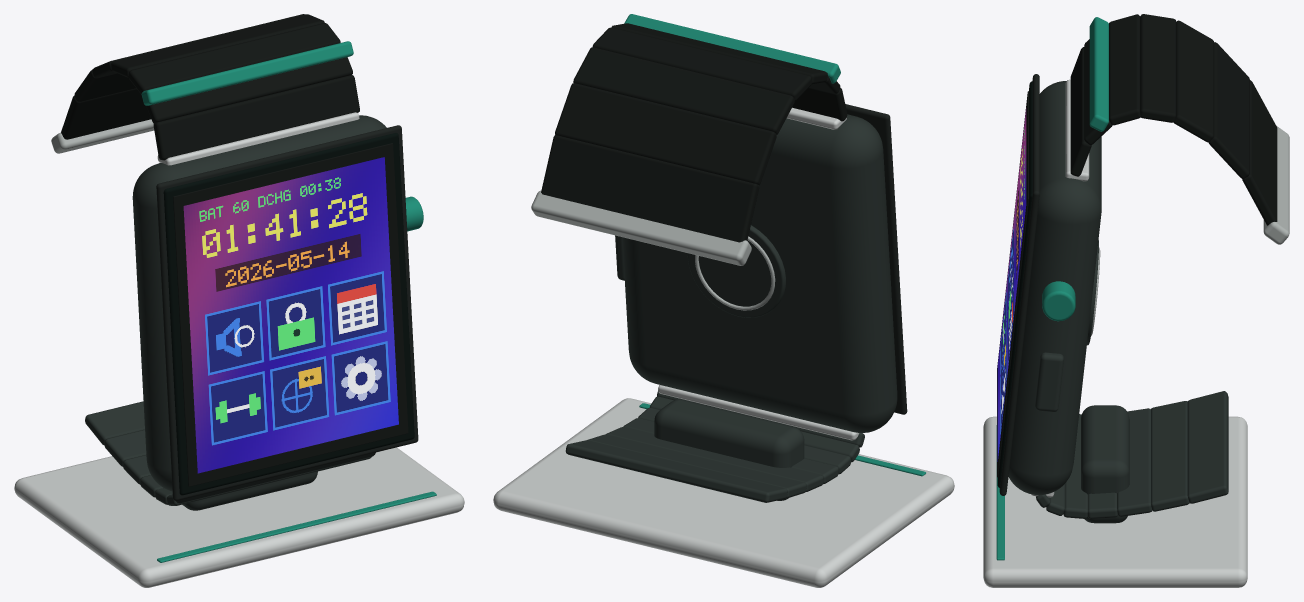
Rendered from lvgl-smartwatch.glb.
3 views of the same model, side by side, from view 1: azimuth 30°, elevation 25°; view 2: azimuth 150°, elevation 25°; view 3: azimuth 270°, elevation 25° (orthographic). The views are drawn at different scales.
Parts seen in each view (by area): view 1: watch-case, dock, strap-top-0, strap-top-2, strap-top-1, keeper, strap-top-6, strap-top-3, strap-bottom-6, buckle, strap-top-5, strap-bottom-5 (+2 smaller); view 2: watch-case, dock, strap-top-6, strap-top-5, strap-top-4, strap-top-3, buckle, strap-bottom-6, keeper, strap-bottom-5, strap-bottom-4, strap-top-2 (+4 smaller); view 3: watch-case, dock, strap-bottom-6, strap-top-4, strap-top-5, strap-bottom-5, strap-top-3, strap-top-2, strap-top-6, strap-bottom-4, keeper, strap-top-0 (+4 smaller).
Boxes of the visible parts, x1,y1,x2,y2 form: watch-case: [132, 112, 423, 500]; dock: [14, 447, 464, 587]; strap-top-0: [153, 75, 359, 160]; strap-top-2: [128, 23, 340, 94]; strap-top-1: [146, 57, 352, 123]; keeper: [141, 41, 353, 105]; strap-top-6: [61, 88, 151, 139]; strap-top-3: [111, 14, 324, 77]; strap-bottom-6: [85, 401, 144, 444]; buckle: [51, 119, 154, 153]; strap-top-5: [74, 69, 135, 101]; strap-bottom-5: [104, 429, 146, 466]; watch-case: [615, 104, 907, 440]; dock: [493, 398, 954, 587]; strap-top-6: [541, 135, 759, 242]; strap-top-5: [555, 83, 776, 185]; strap-top-4: [573, 47, 794, 134]; strap-top-3: [592, 27, 812, 101]; buckle: [531, 190, 751, 265]; strap-bottom-6: [565, 440, 787, 502]; keeper: [624, 14, 840, 83]; strap-bottom-5: [588, 434, 806, 498]; strap-bottom-4: [606, 427, 823, 492]; strap-top-2: [612, 23, 827, 84]; watch-case: [997, 74, 1101, 497]; dock: [983, 405, 1247, 587]; strap-bottom-6: [1187, 391, 1228, 503]; strap-top-4: [1174, 20, 1213, 142]; strap-top-5: [1209, 42, 1249, 178]; strap-bottom-5: [1151, 401, 1189, 511]; strap-top-3: [1140, 14, 1176, 122]; strap-top-2: [1109, 14, 1140, 125]; strap-top-6: [1242, 80, 1277, 225]; strap-bottom-4: [1117, 408, 1152, 516]; keeper: [1089, 17, 1108, 131]; strap-top-0: [1070, 47, 1091, 176].
Size of the model in its own units: 5.4 by 7.16 by 4.4.
8 materials, 1 textured.
